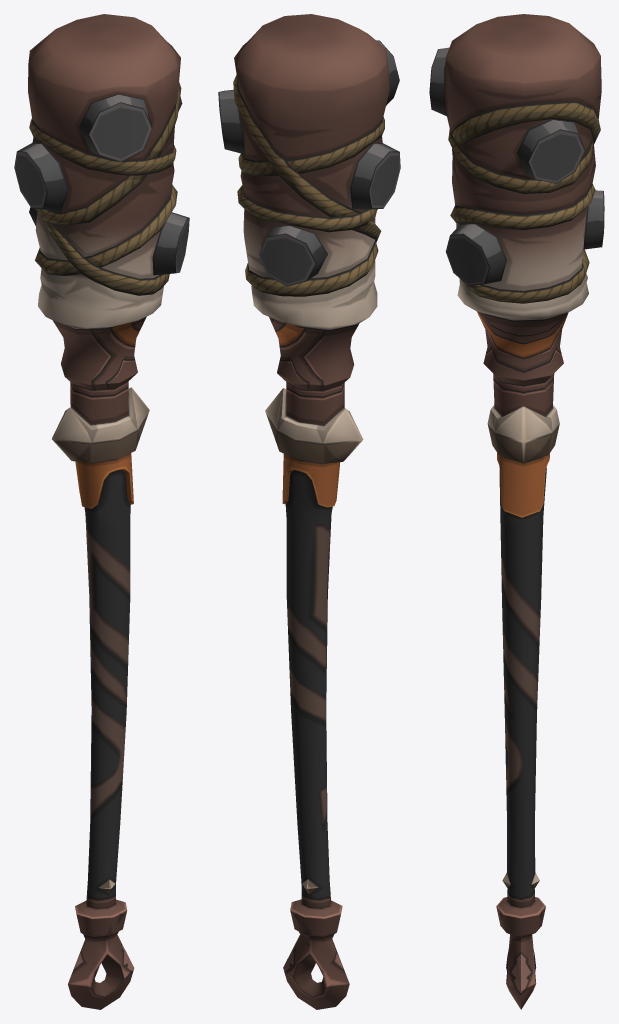
Rendered from Torch.dae.
3 renders of one model, left to right at view 1: azimuth 30°, elevation 25°; view 2: azimuth 150°, elevation 25°; view 3: azimuth 270°, elevation 25°, orthographic.
Visible parts, largest first — view 1: MonEquip_Torch_01_Model; view 2: MonEquip_Torch_01_Model; view 3: MonEquip_Torch_01_Model.
Part boxes in pixels (left/top/right/bottom): MonEquip_Torch_01_Model: left=14, top=14, right=189, bottom=1009; MonEquip_Torch_01_Model: left=218, top=14, right=400, bottom=1009; MonEquip_Torch_01_Model: left=429, top=14, right=604, bottom=1009.
Size of the model in its own units: 0.1807 by 0.1709 by 1.05.
1 material, 1 textured.
